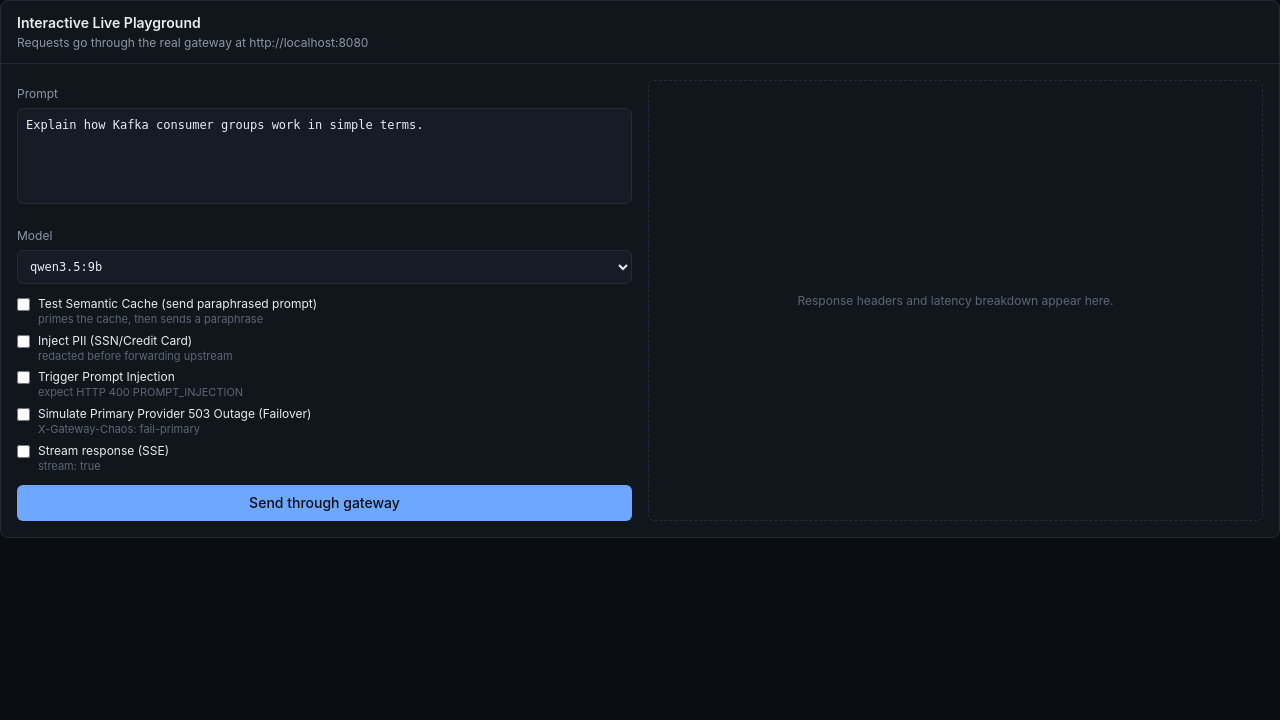
Test case: Playground › sends the chaos header for the failover toggle and surfaces errors
The width and height of the screenshot is (1280, 720).
Click the checkbox with test id "toggle-simulateOutage": (24, 414) 17,408 -> 30,421
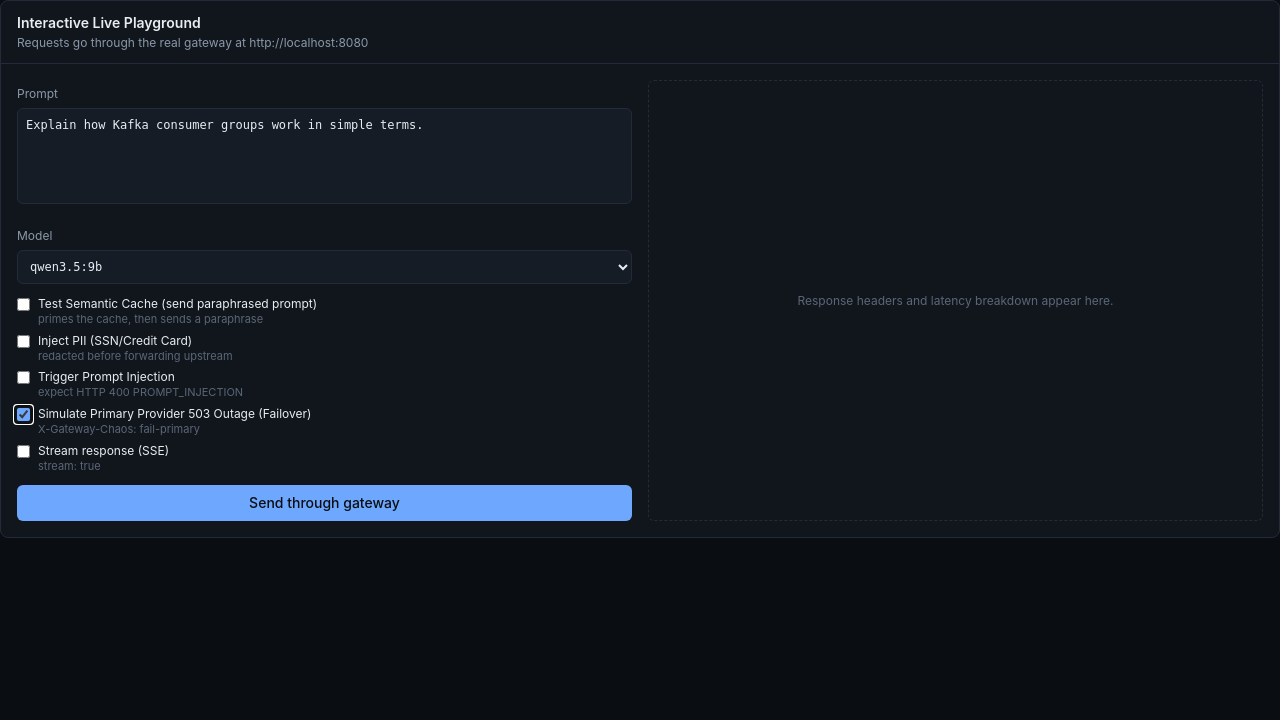
Click the checkbox with test id "toggle-promptInjection": (24, 378) 17,371 -> 30,384
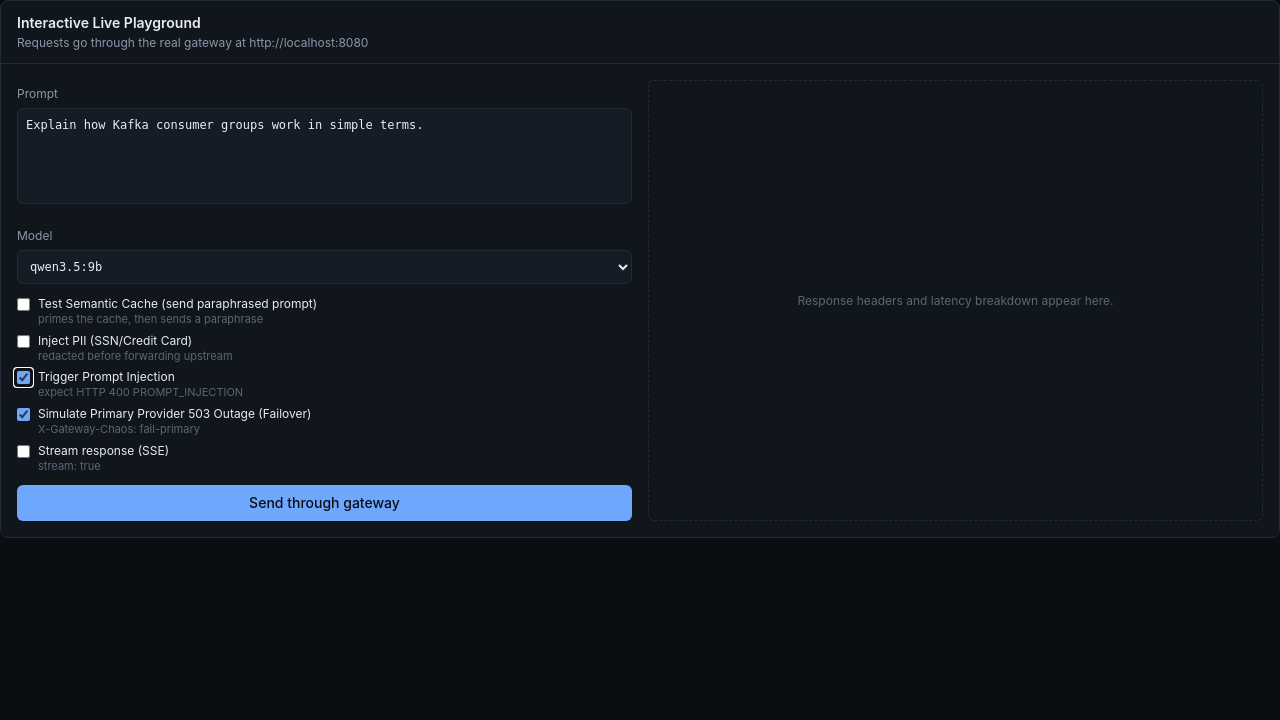
Click the button with test id "send-button": (324, 503) 17,485 -> 632,521
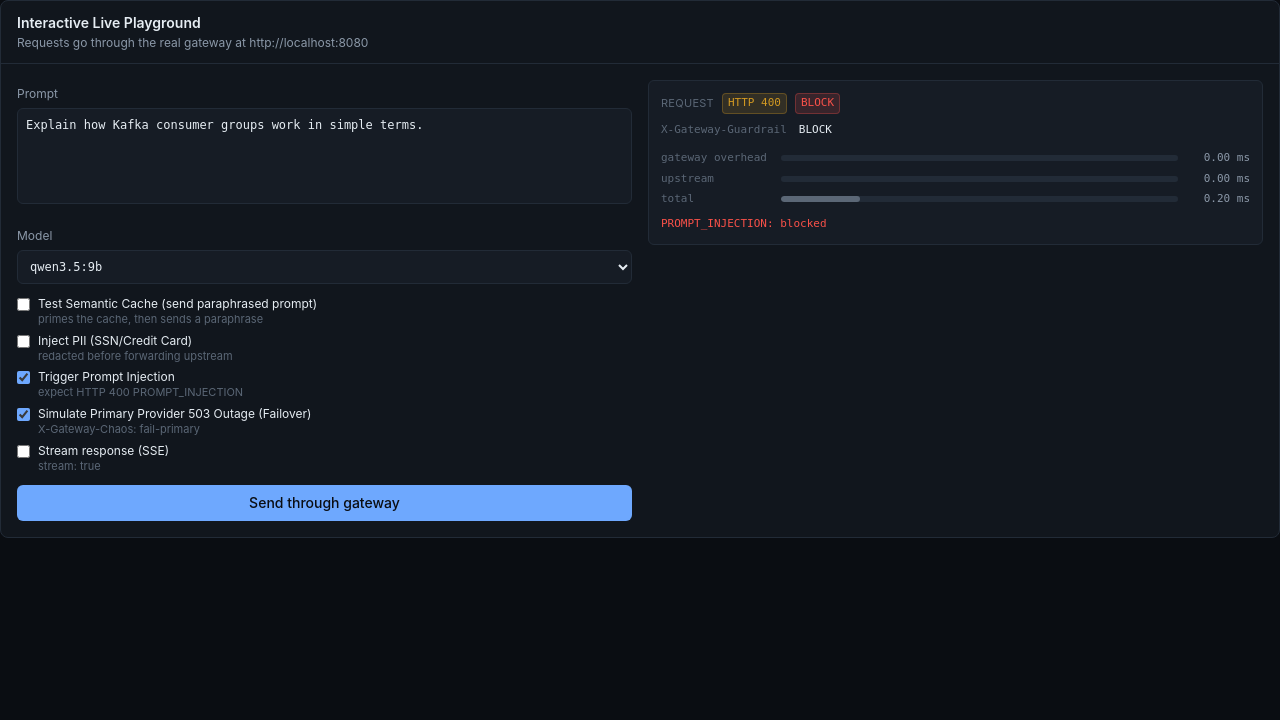
Check: the text with test id "result-error" reads "PROMPT_INJECTION: blocked", box 661,216 -> 827,230
Check: the text with test id "result-status" reads "HTTP 400", box 722,93 -> 787,114
